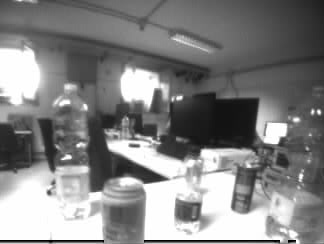Bottle: (269, 88, 323, 240), (54, 82, 90, 220), (175, 147, 202, 231), (121, 114, 129, 139)
Tin can: (103, 177, 146, 244), (232, 164, 254, 214)
